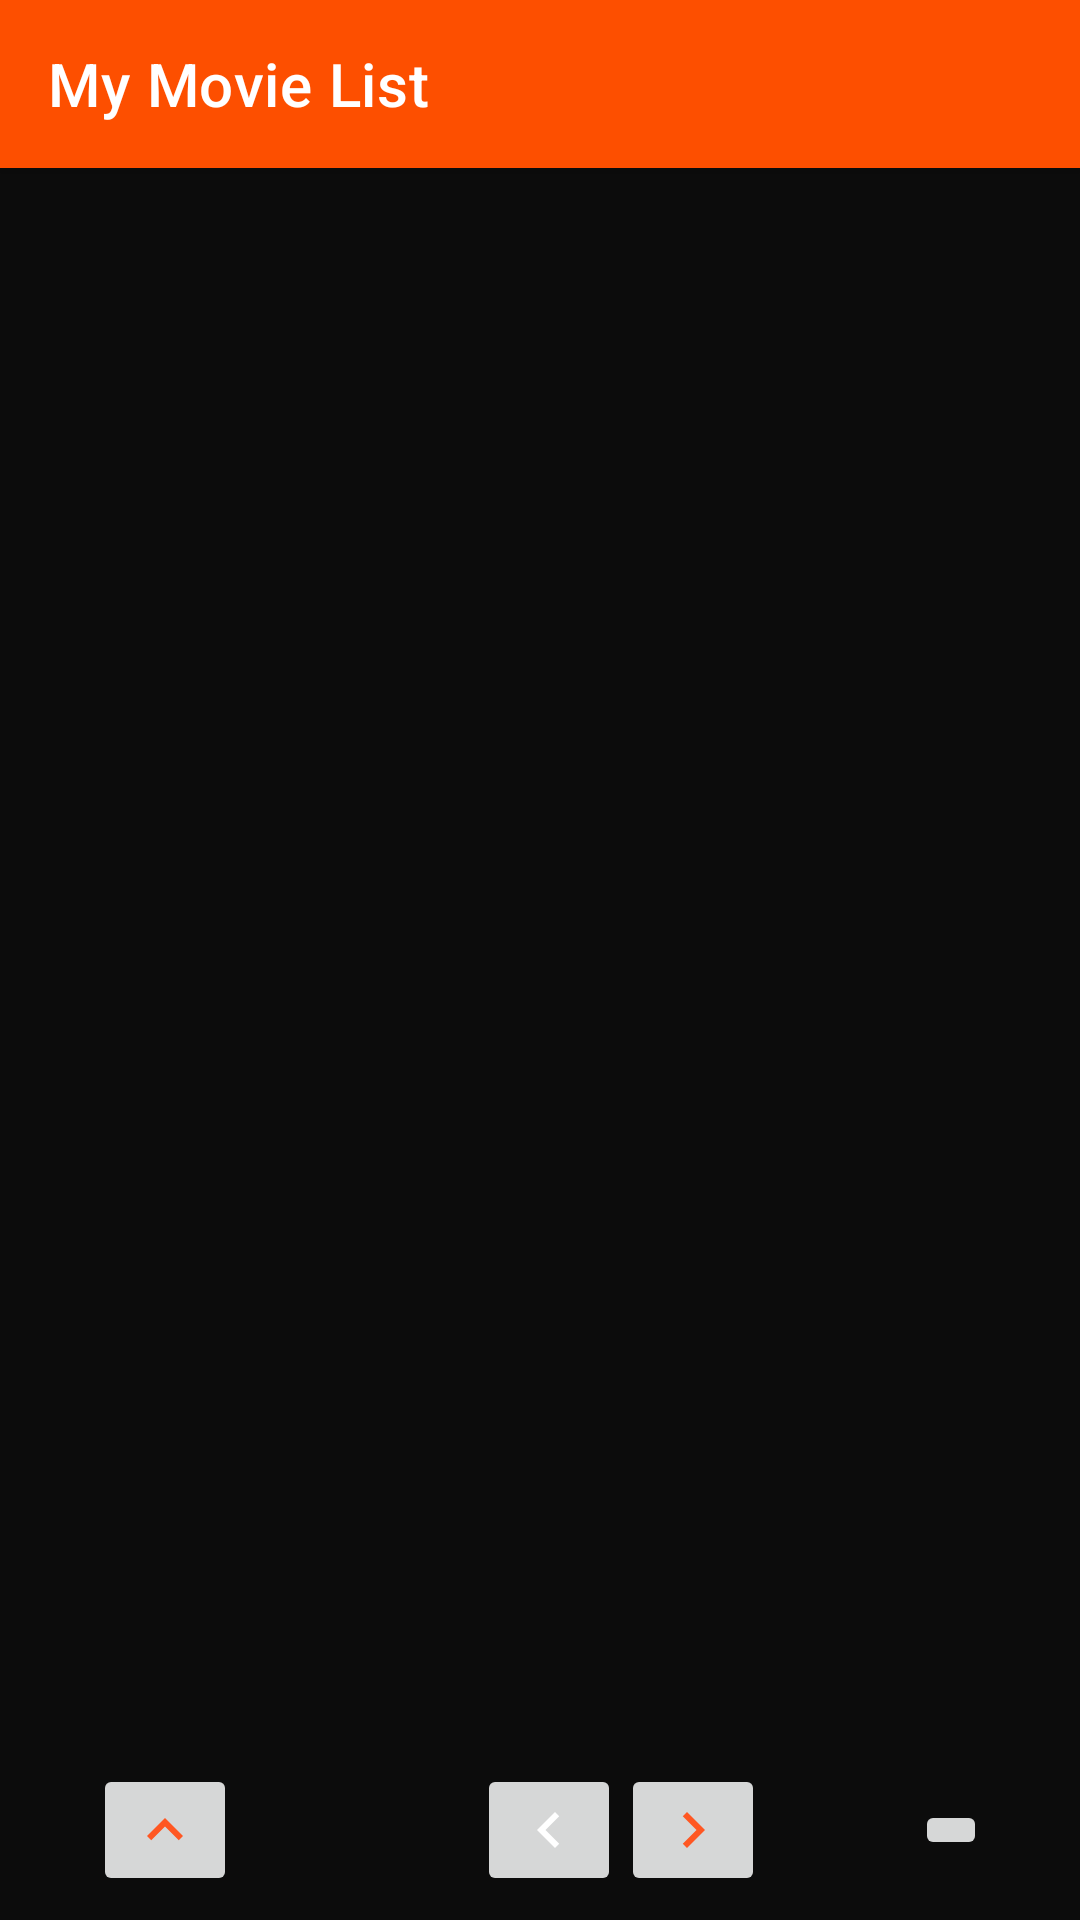

Icon click points for this 1080×1920 phone screenshot, format point (x, y):
next: point (693, 1830)
previous: point (549, 1830)
